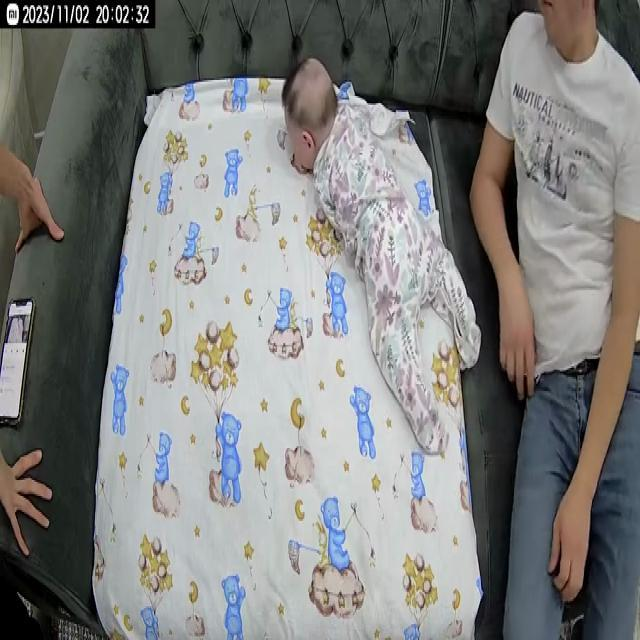baby: (280, 53, 482, 466)
